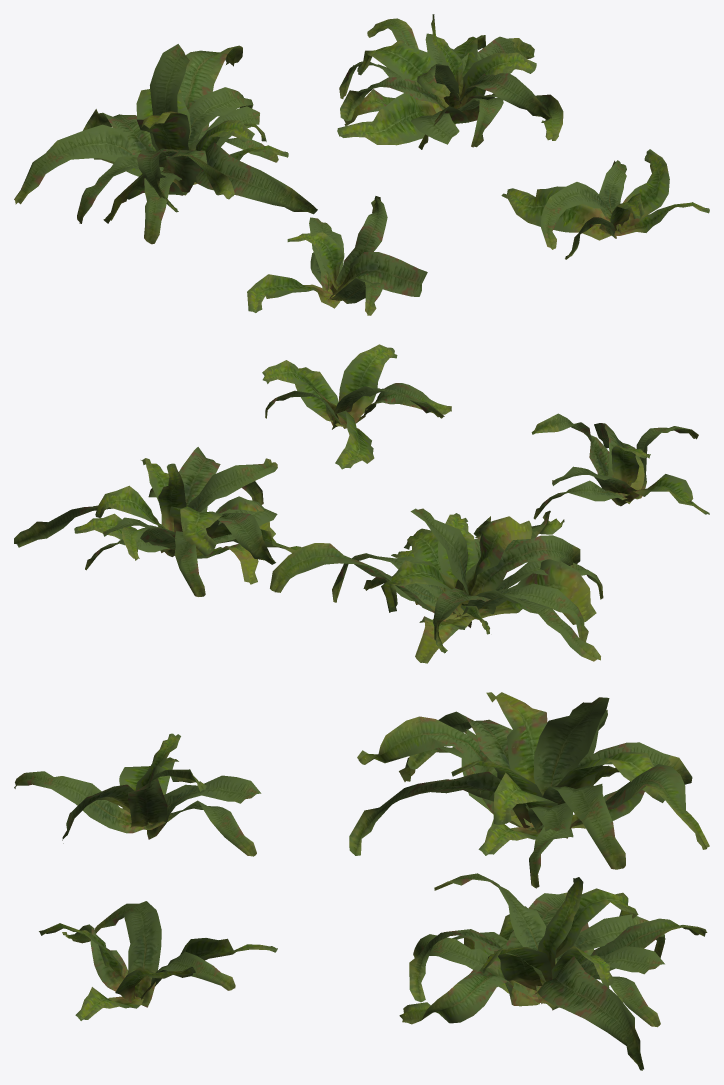
File: fern_02.glb
The picture shows the model from 3 angles, top to bottom: view 1: azimuth 30°, elevation 25°; view 2: azimuth 150°, elevation 25°; view 3: azimuth 270°, elevation 25°; orthographic projection. The views are drawn at different scales.
Visible parts, largest first — view 1: fern_02_b; view 2: fern_02_b; view 3: fern_02_b.
Boxes of the visible parts, bbox=[...] form: fern_02_b: bbox=[14, 14, 709, 315]; fern_02_b: bbox=[14, 344, 709, 663]; fern_02_b: bbox=[14, 692, 709, 1070].
Size of the model in its own units: 1.97 by 0.4277 by 1.72.
1 material, 1 textured.
